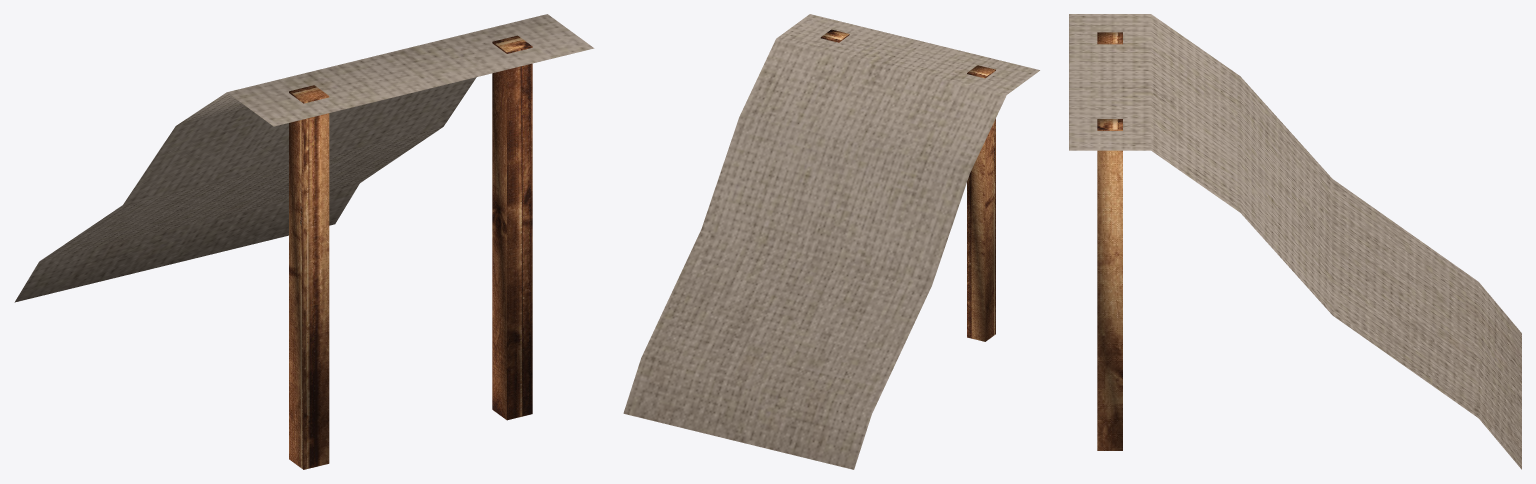
Rendered from shop.fbx.
The picture shows the model from 3 angles, left to right: view 1: azimuth 30°, elevation 25°; view 2: azimuth 150°, elevation 25°; view 3: azimuth 270°, elevation 25°; orthographic projection. The views are drawn at different scales.
Parts seen in each view (by area): view 1: Cube.004; view 2: Cube.004; view 3: Cube.004.
Part boxes in pixels (left/top/right/bottom): Cube.004: left=14, top=14, right=594, bottom=469; Cube.004: left=623, top=14, right=1039, bottom=469; Cube.004: left=1069, top=14, right=1521, bottom=469.
Bounding box in the file's own units: 788 × 863 × 1104.
